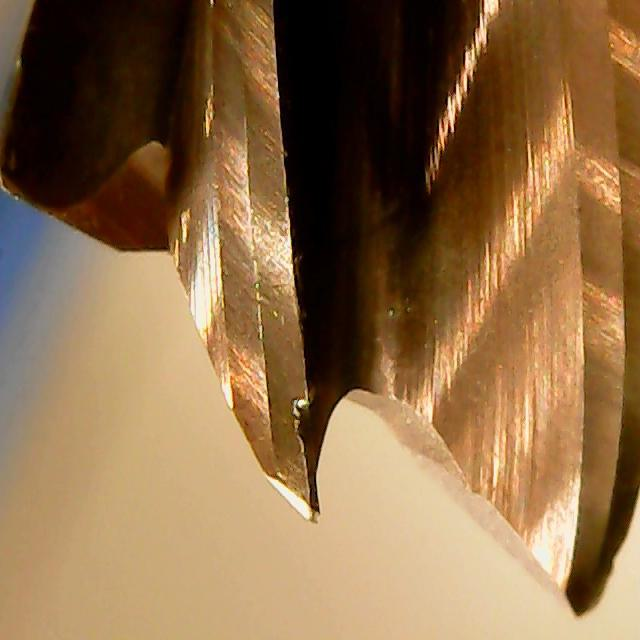Tool-wear-class-2: (194, 236, 342, 527)
